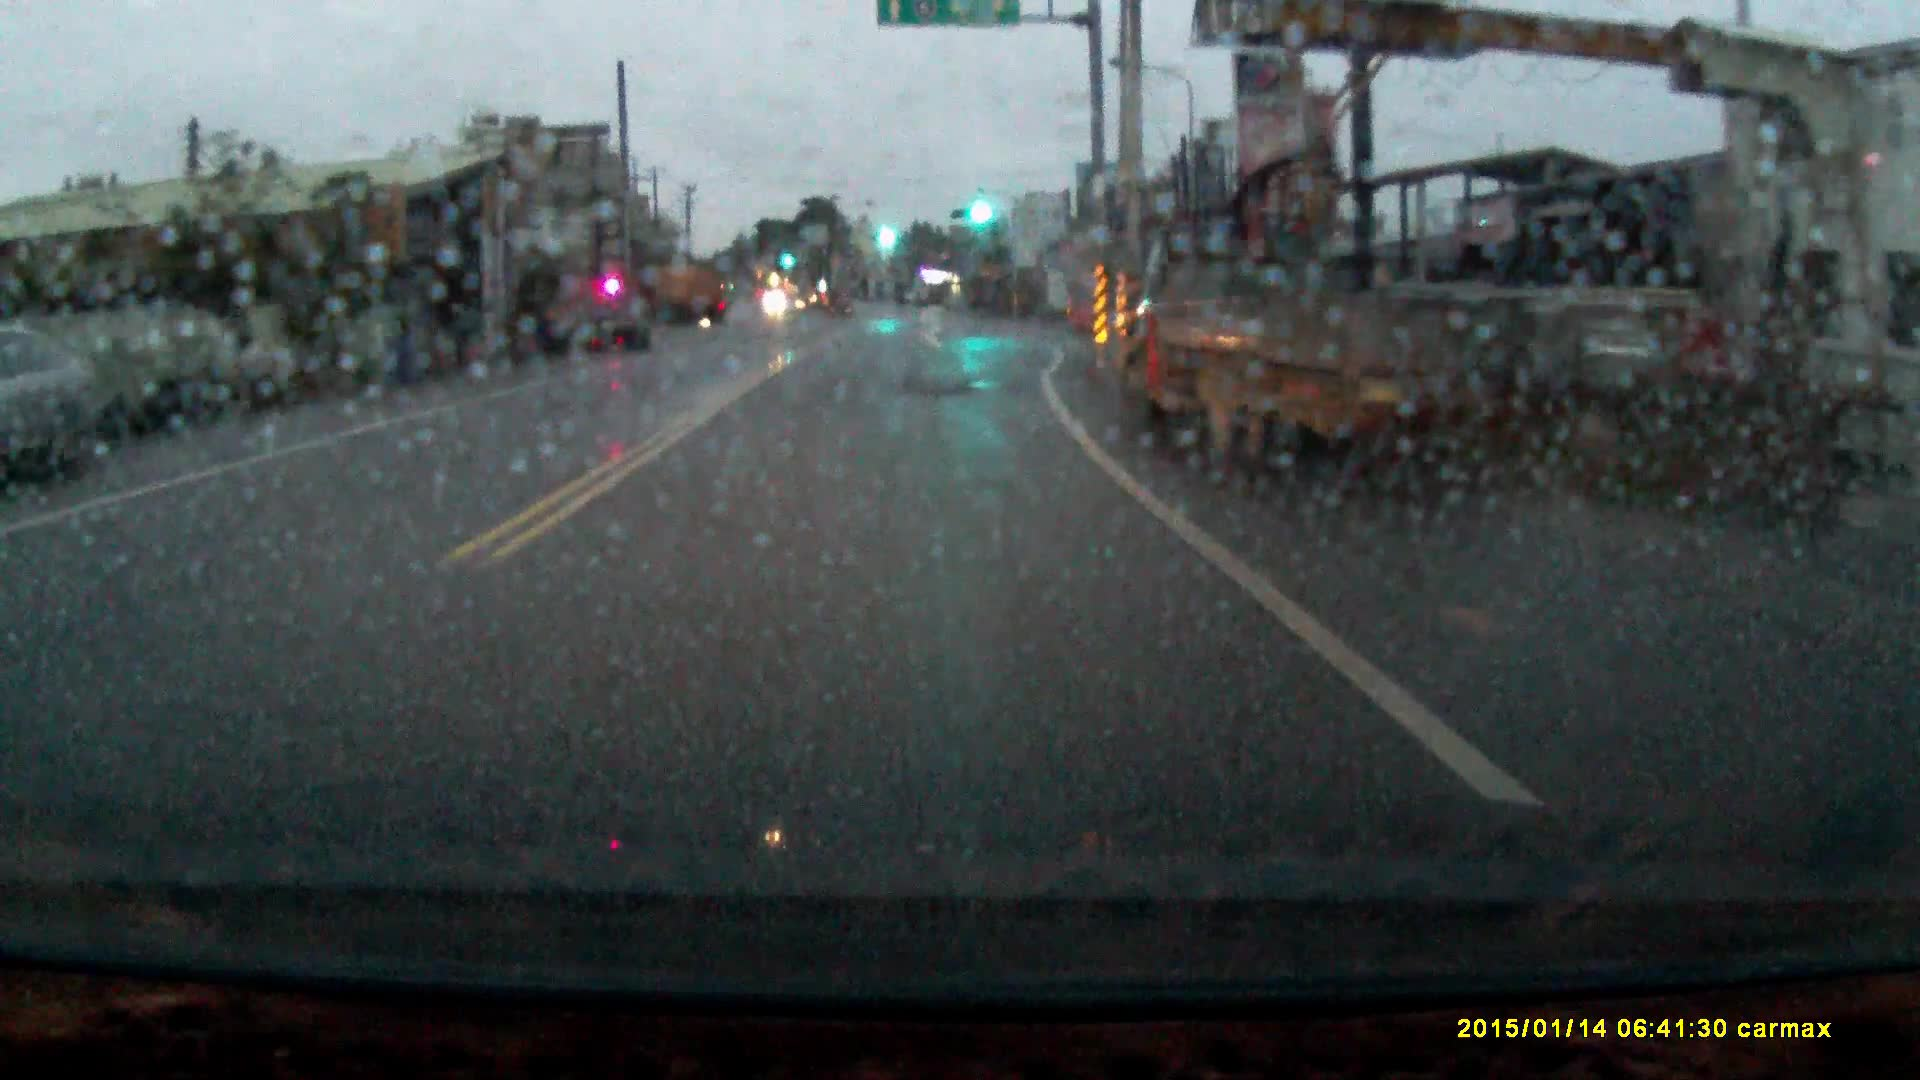vehicle: (1129, 212, 1542, 483), (632, 255, 727, 319)
